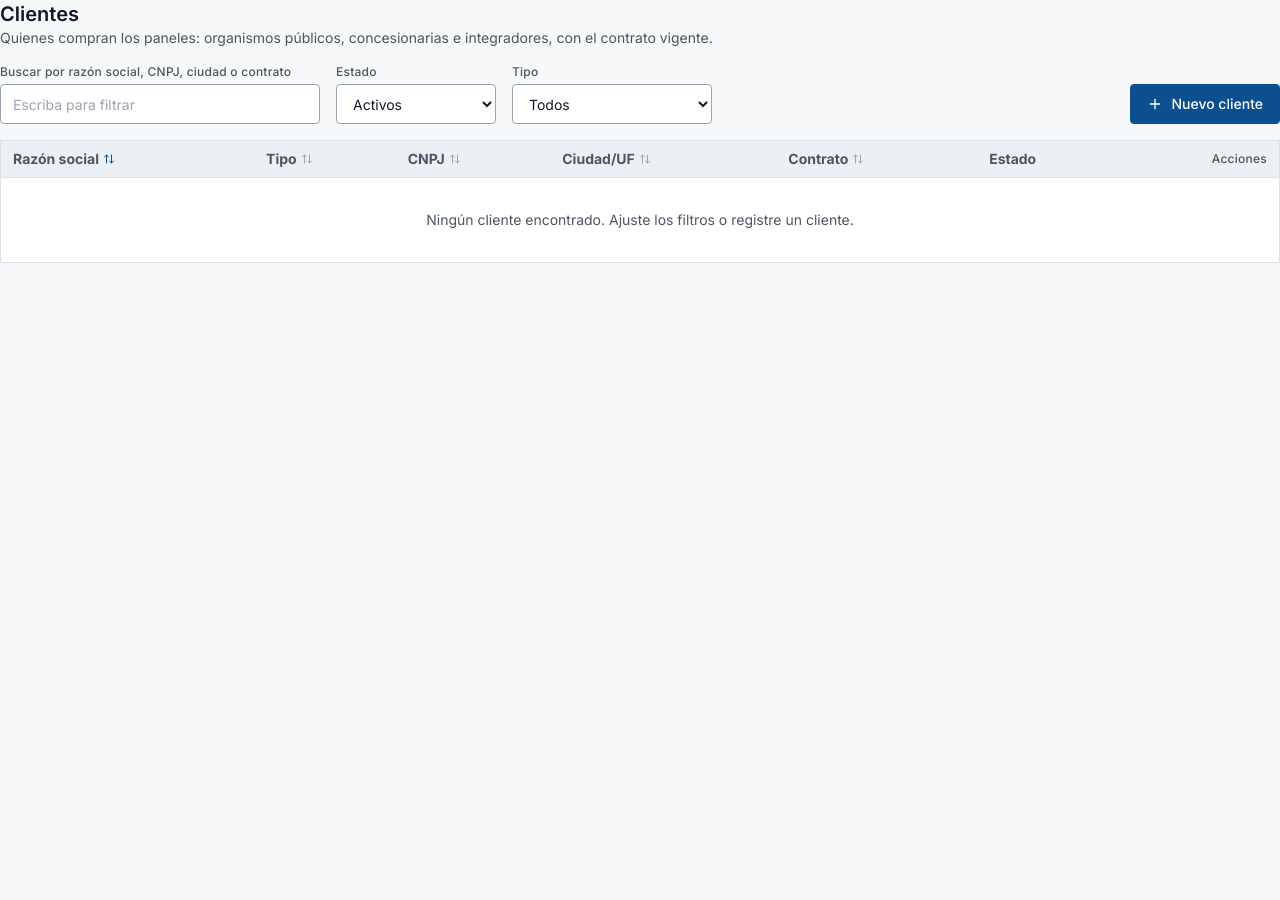
Scenario: Clientes (espanhol) › as mensagens de validacao do formulario saem em espanhol
Click the button "Nuevo cliente": (1205, 104) [1130,84,1279,124]
(page scrolled)
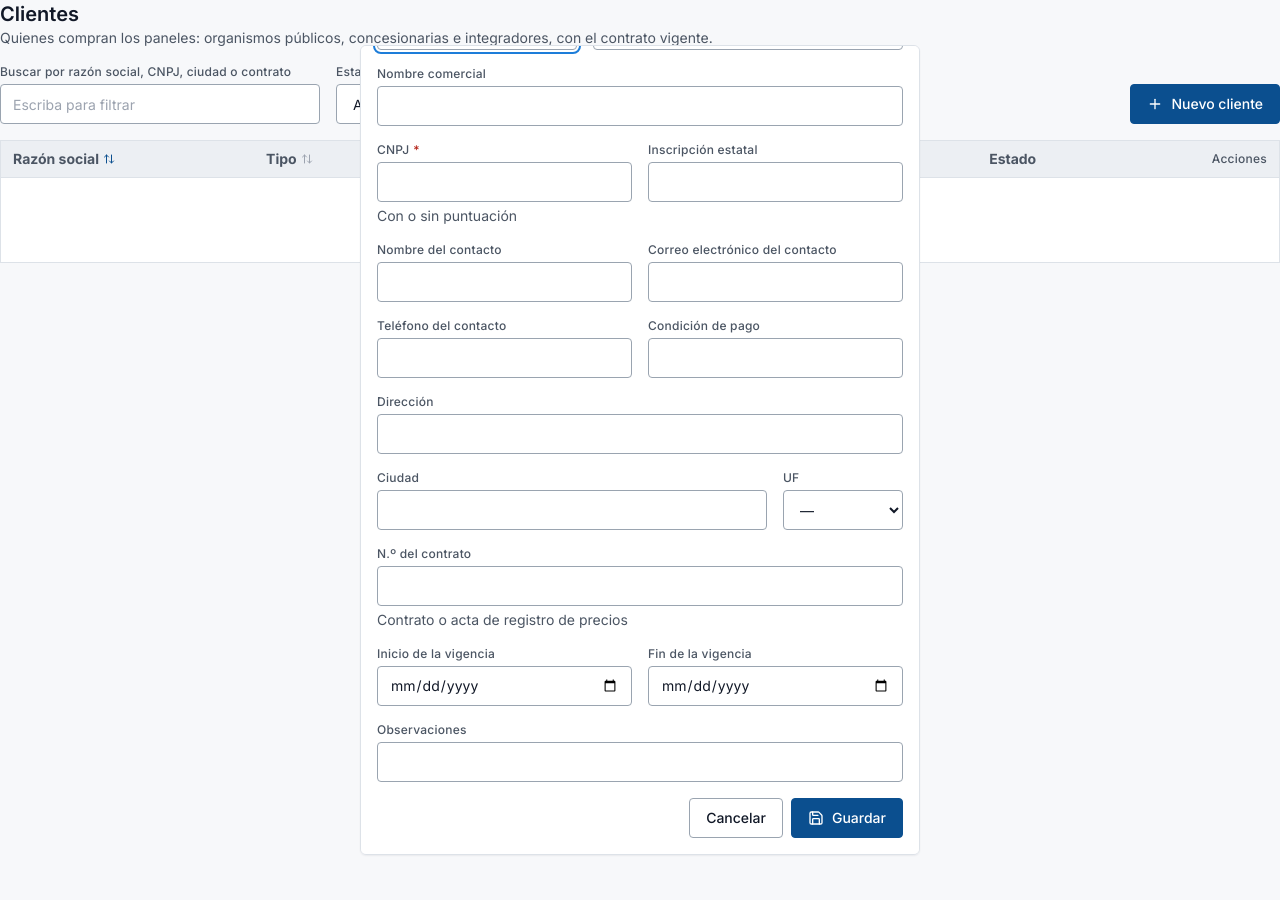
Click the button "Guardar": (847, 818) [791,798,903,838]
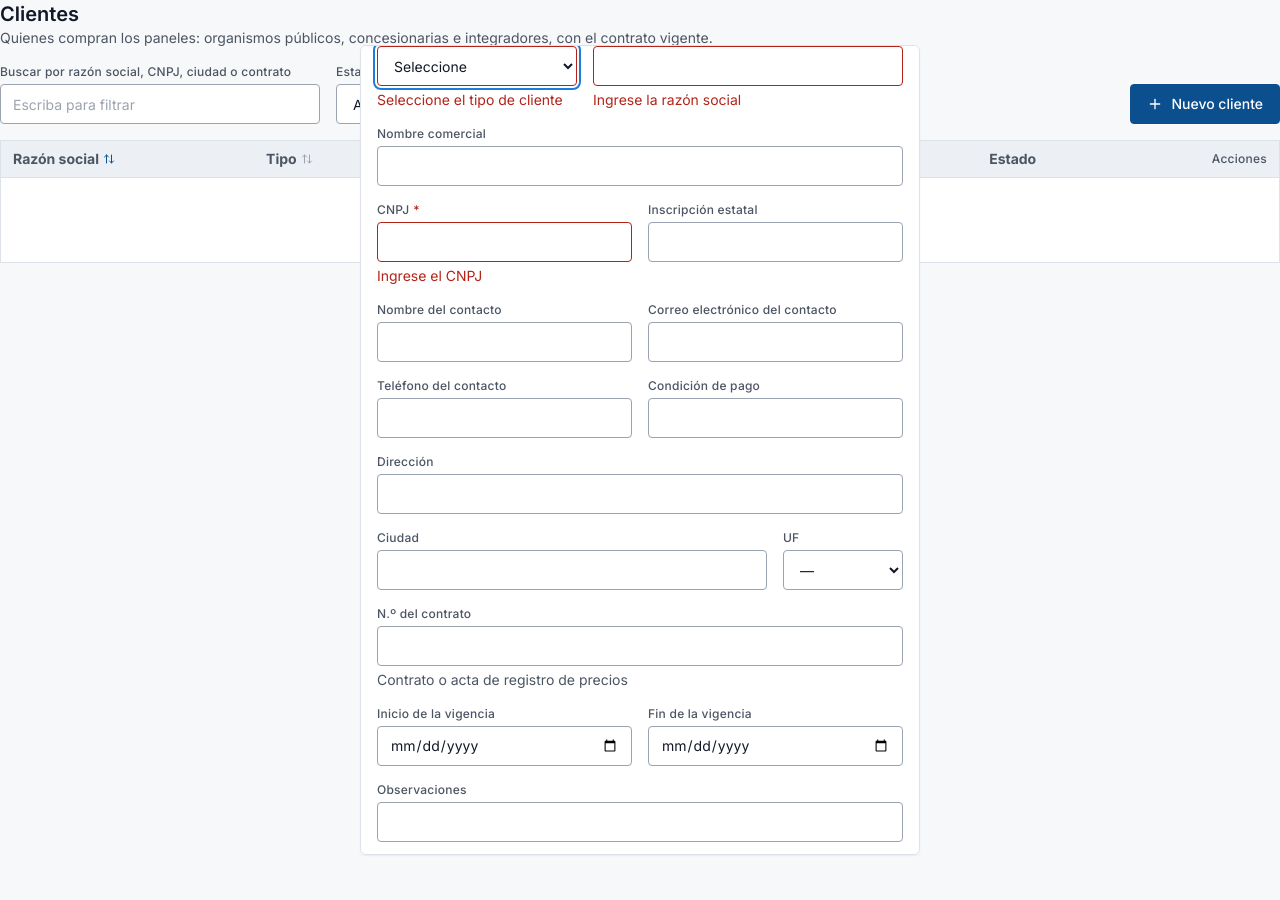
Result: the text "Seleccione el tipo de cliente" is shown at [377,90,577,110]
Result: the text "Ingrese el CNPJ" is shown at [377,267,482,284]
